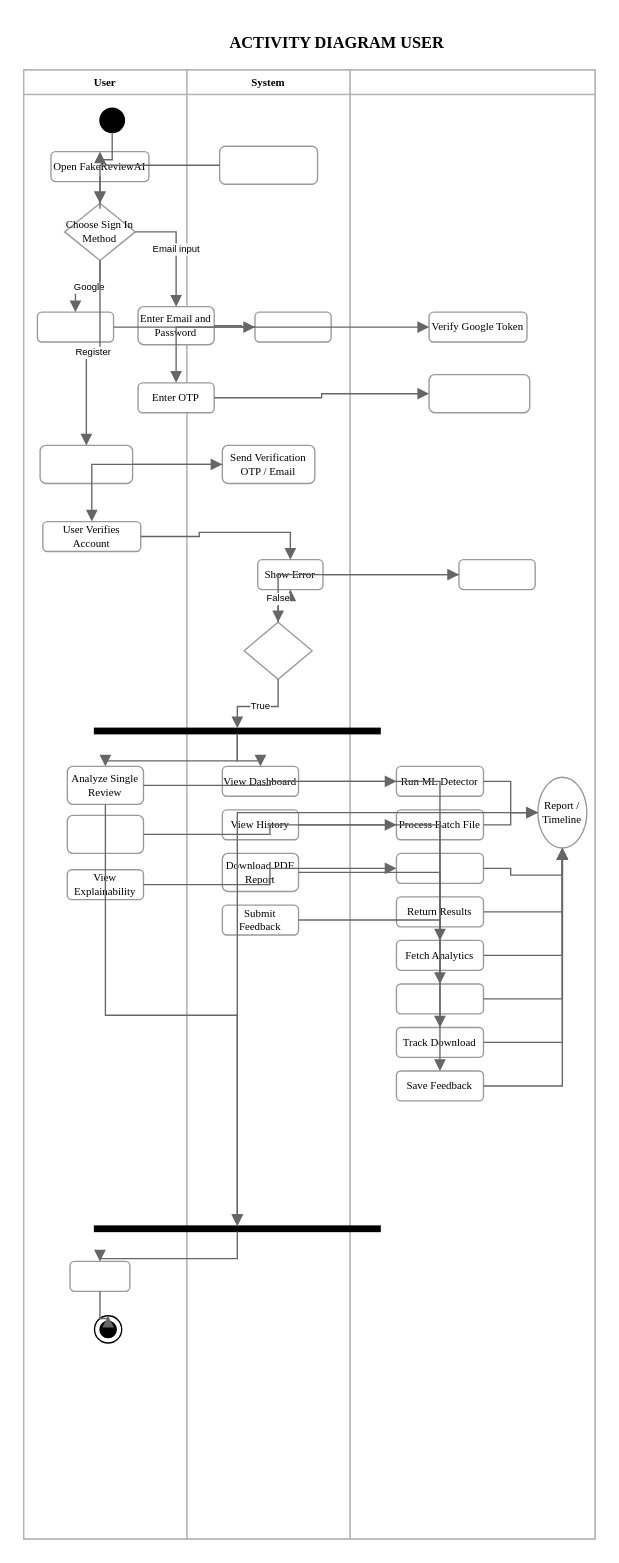
The diagram is 619 pixels wide and 1563 high, and some of its shapes have lost their labels. The shapes that lost their labels are listed below. From the top down, each one's box as (x1, y1, x2, y2) in pixels, then its label:
(349, 69, 595, 95): Backend
(218, 145, 318, 184): Display Create Account / Login
(36, 311, 114, 342): Google Sign In
(254, 311, 331, 342): Send Login OTP
(428, 373, 530, 413): Validate Credentials and OTP
(39, 444, 133, 483): Enter Email, Name, Password
(458, 558, 535, 590): Create Account
(243, 621, 312, 679): Login Successful?
(66, 814, 143, 853): Batch Analyze Reviews
(395, 852, 483, 883): Build Explainability
(395, 983, 483, 1014): Fetch History
(69, 1260, 130, 1291): Logout
